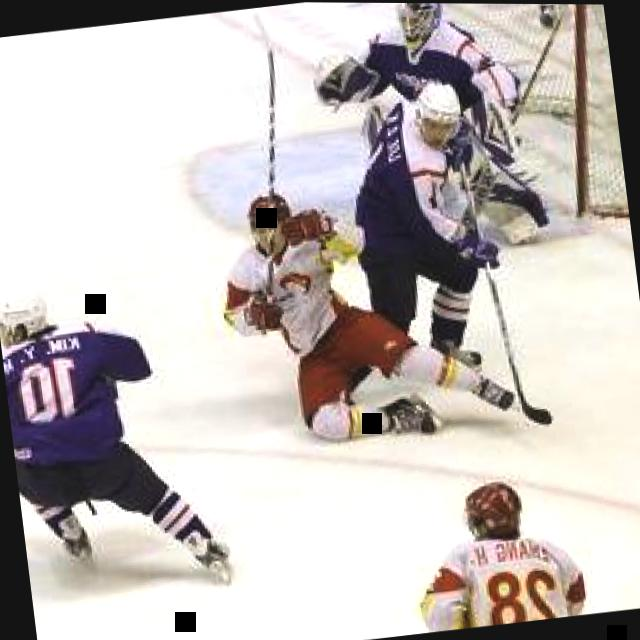Fall-Detected: (192, 148, 532, 467)
